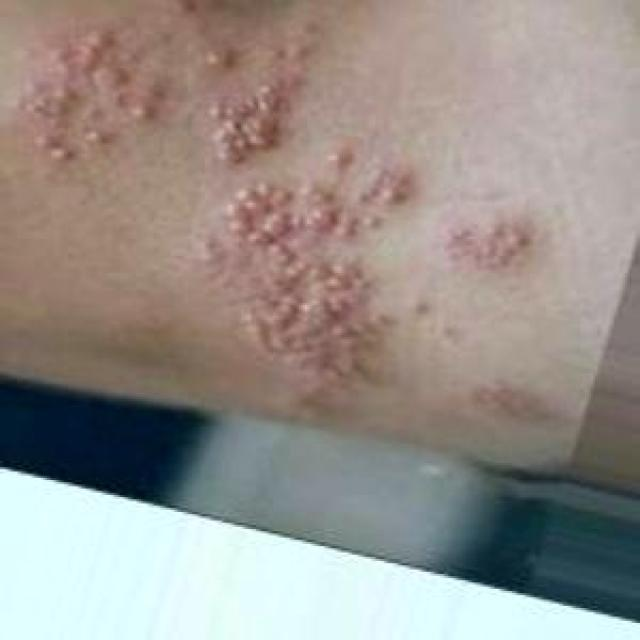Shingles: (208, 16, 417, 393), (23, 26, 157, 160), (436, 211, 526, 269)
